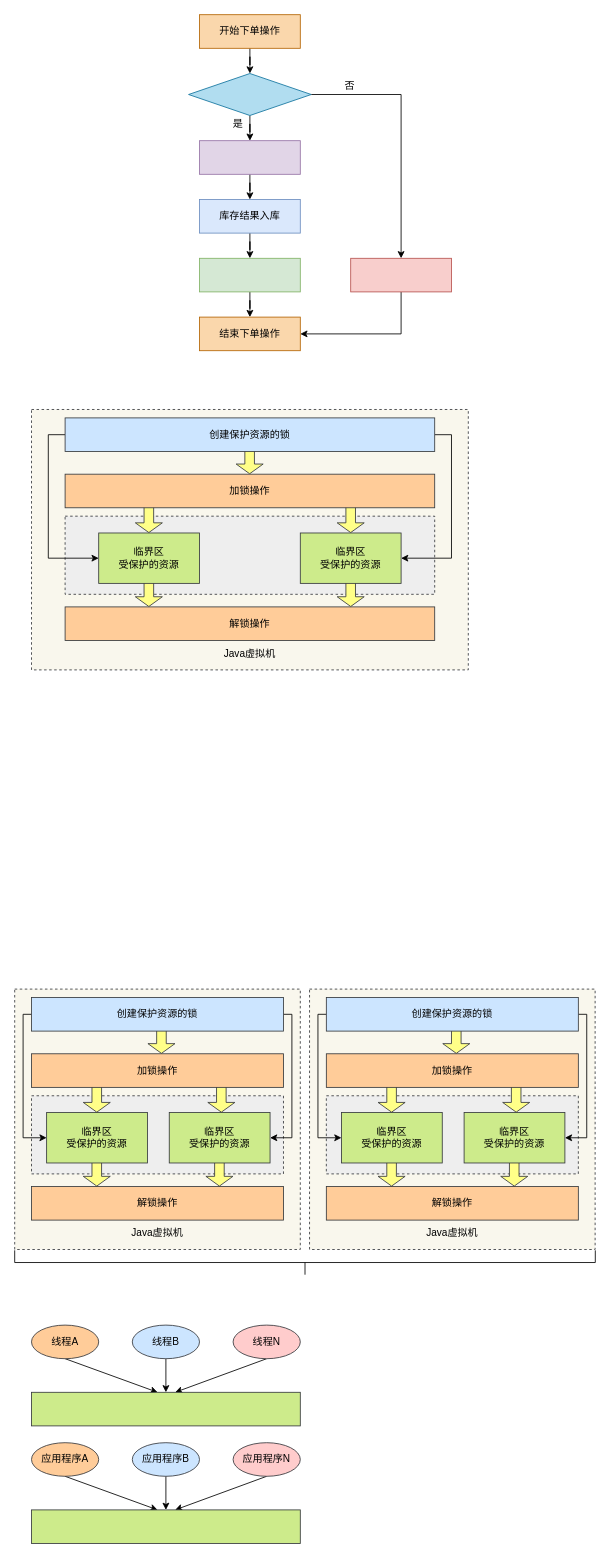
This 611x1558 diagram has some shape labels left out. Here are the shapes that lost their labels. From the top down, the centre of each, then its label:
At point (249, 94): "库存充足？".
At point (249, 157): "扣减库存".
At point (249, 274): "下单成功".
At point (401, 274): "下单失败".
At point (304, 1262): "synchronized锁和Lock锁无法保证多JVM进程间应用程序的互斥性".
At point (165, 1408): "Java对象头中的锁标志位".
At point (165, 1526): "保存加锁状态的服务".
